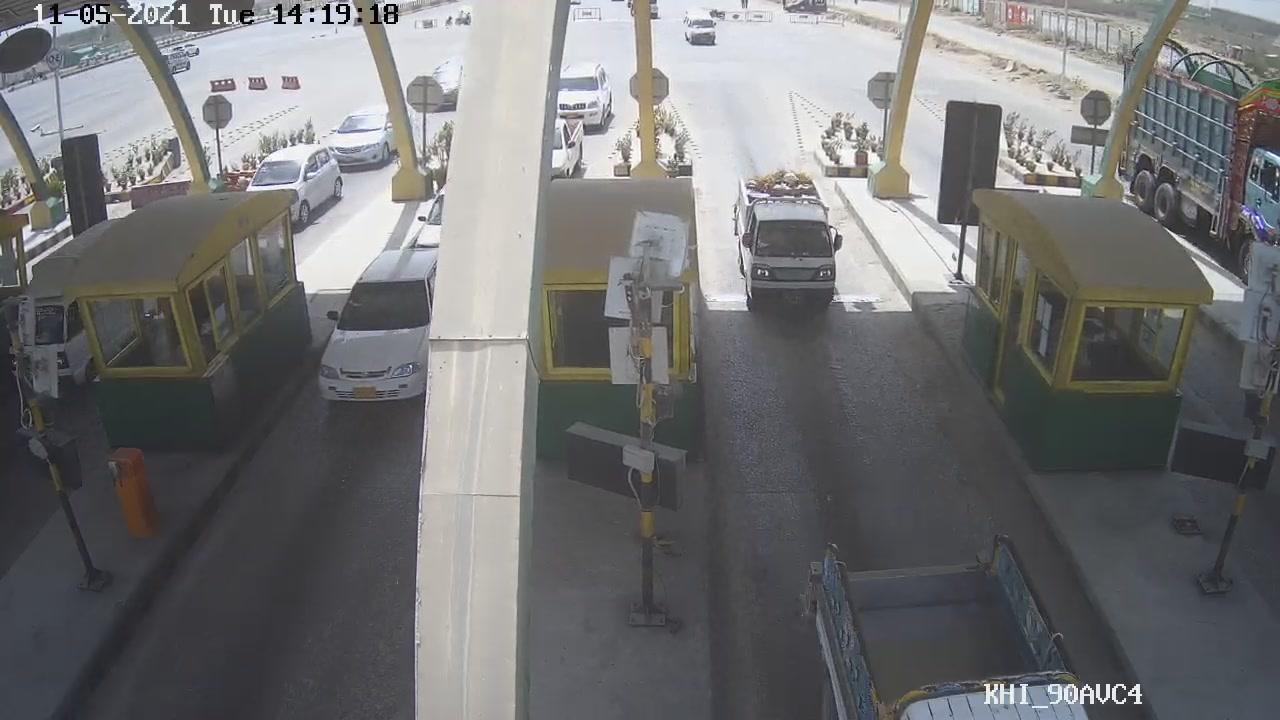F1: (720, 167, 854, 324)
